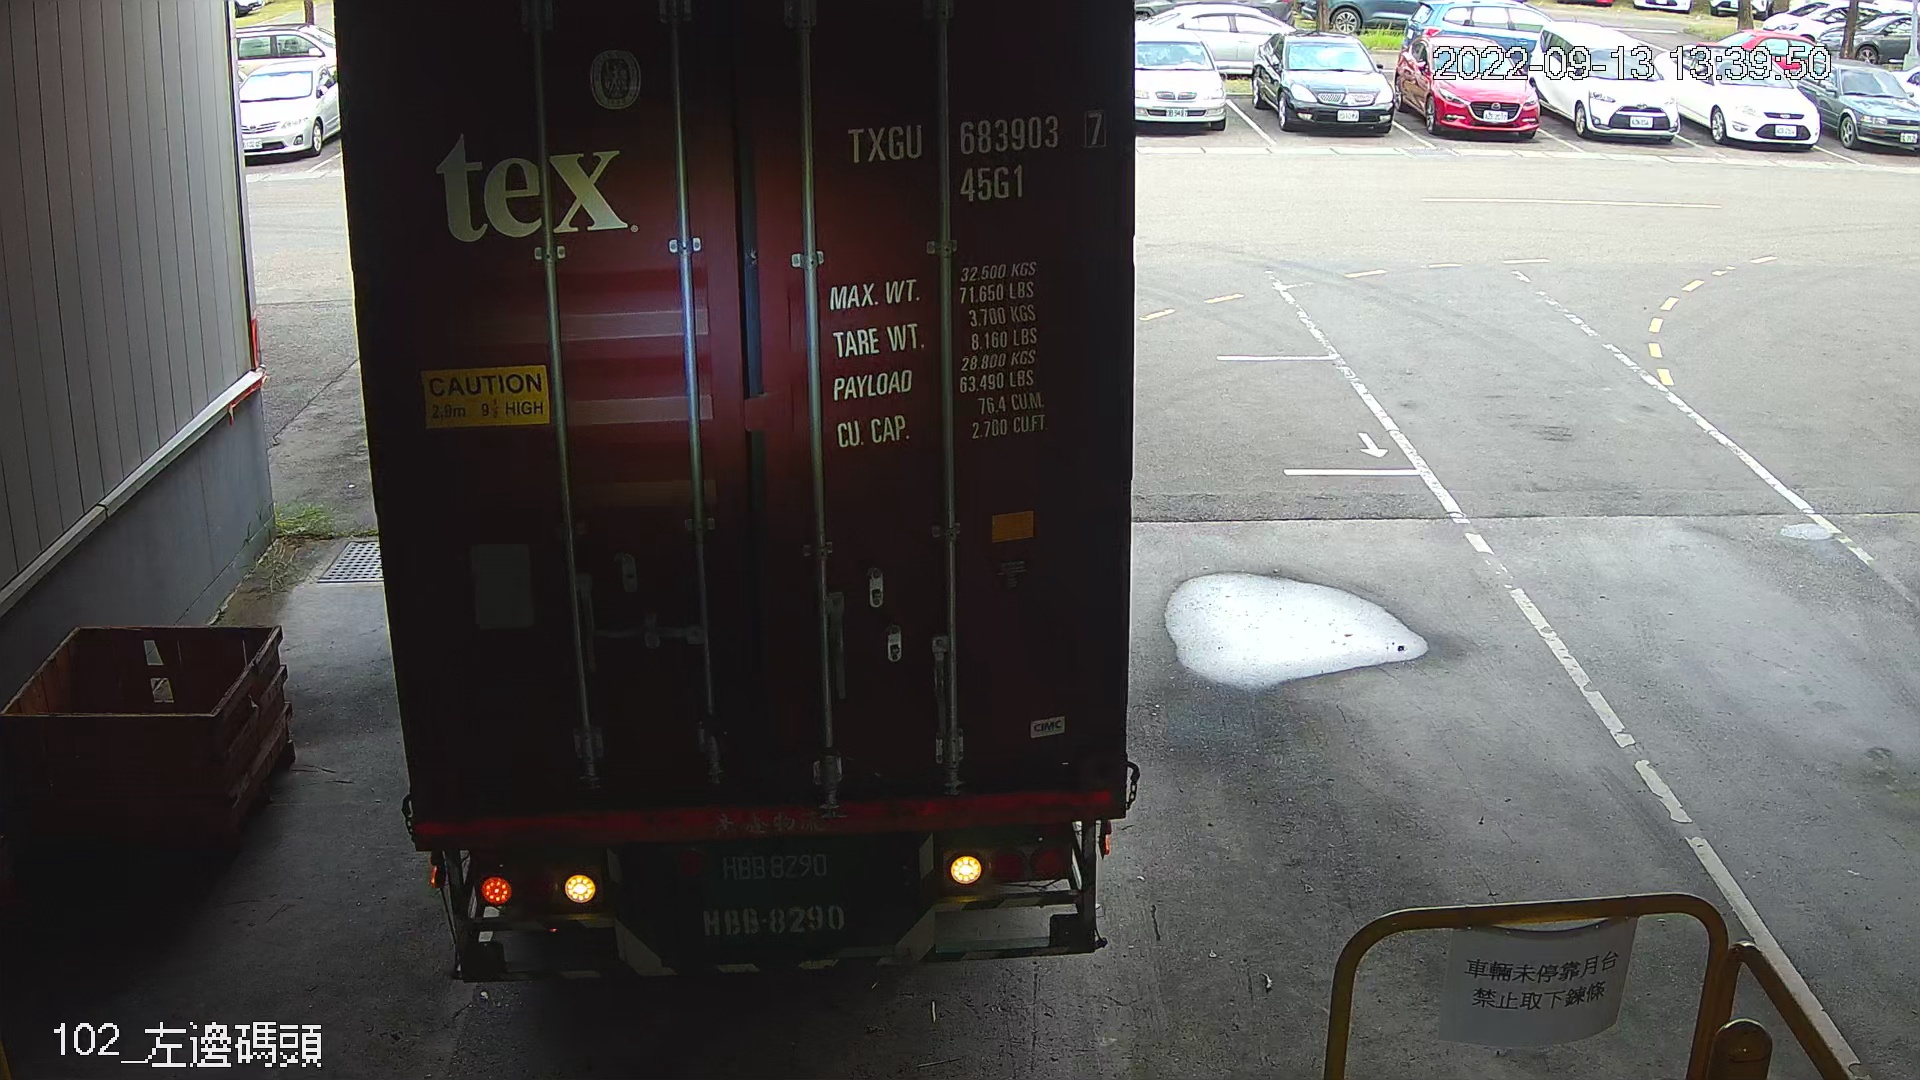container: (831, 102, 1114, 214)
